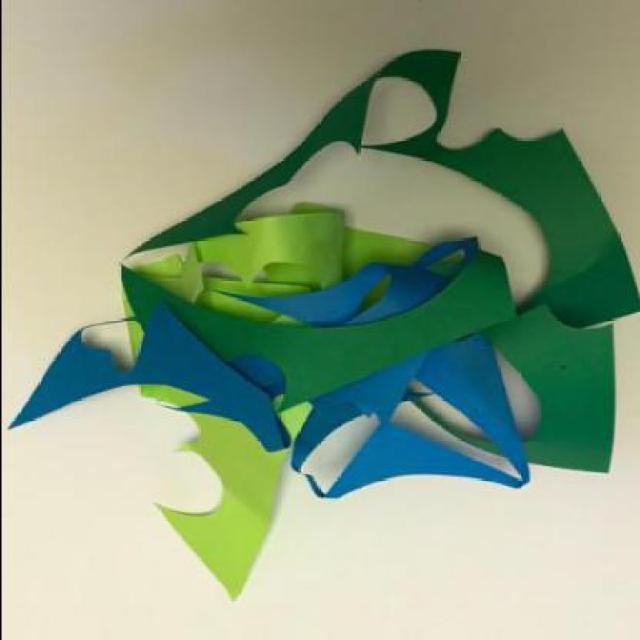PAPER: (120, 50, 637, 413), (7, 240, 530, 502), (113, 256, 313, 604), (182, 202, 468, 322)
